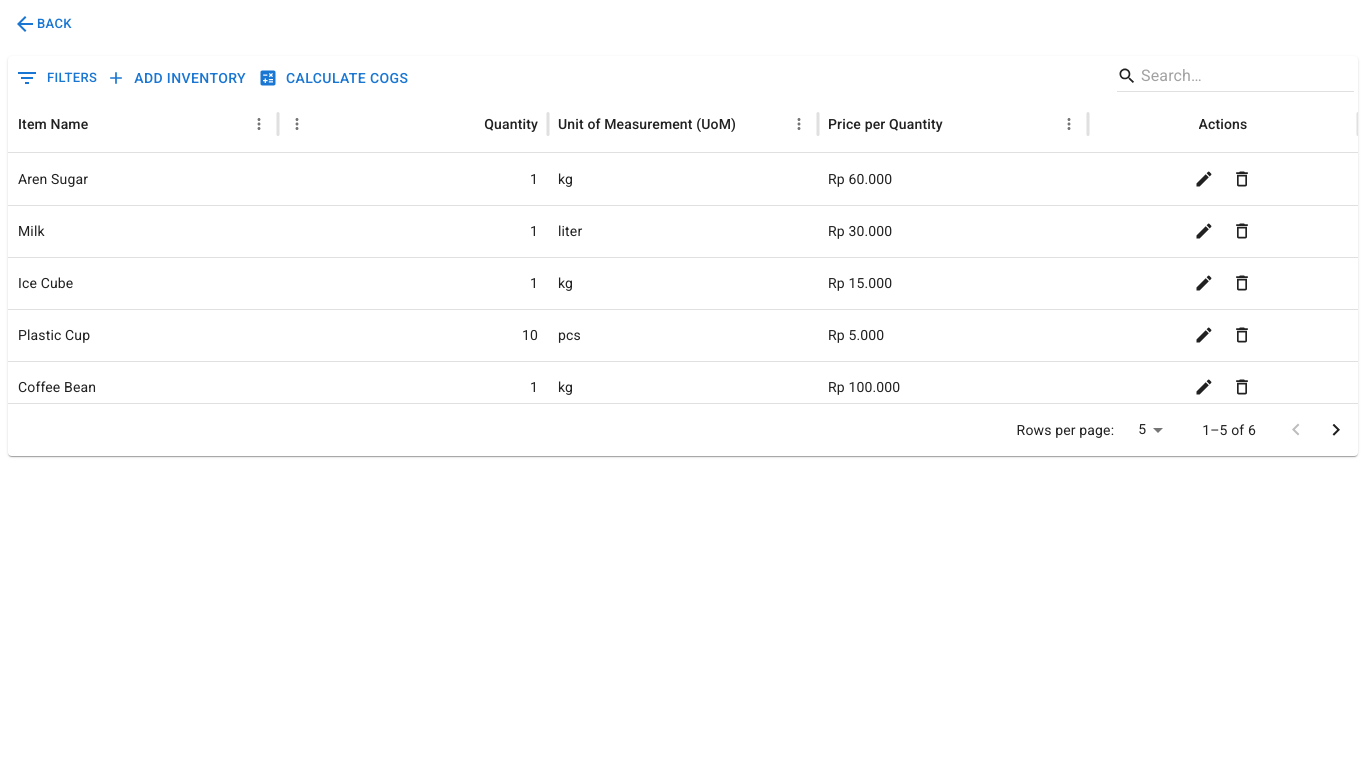
Test: inventory › add modal › should create inventory correctly
Click the button "Add Inventory".
click(178, 79)  # box x1=102 y1=60 x2=254 y2=97
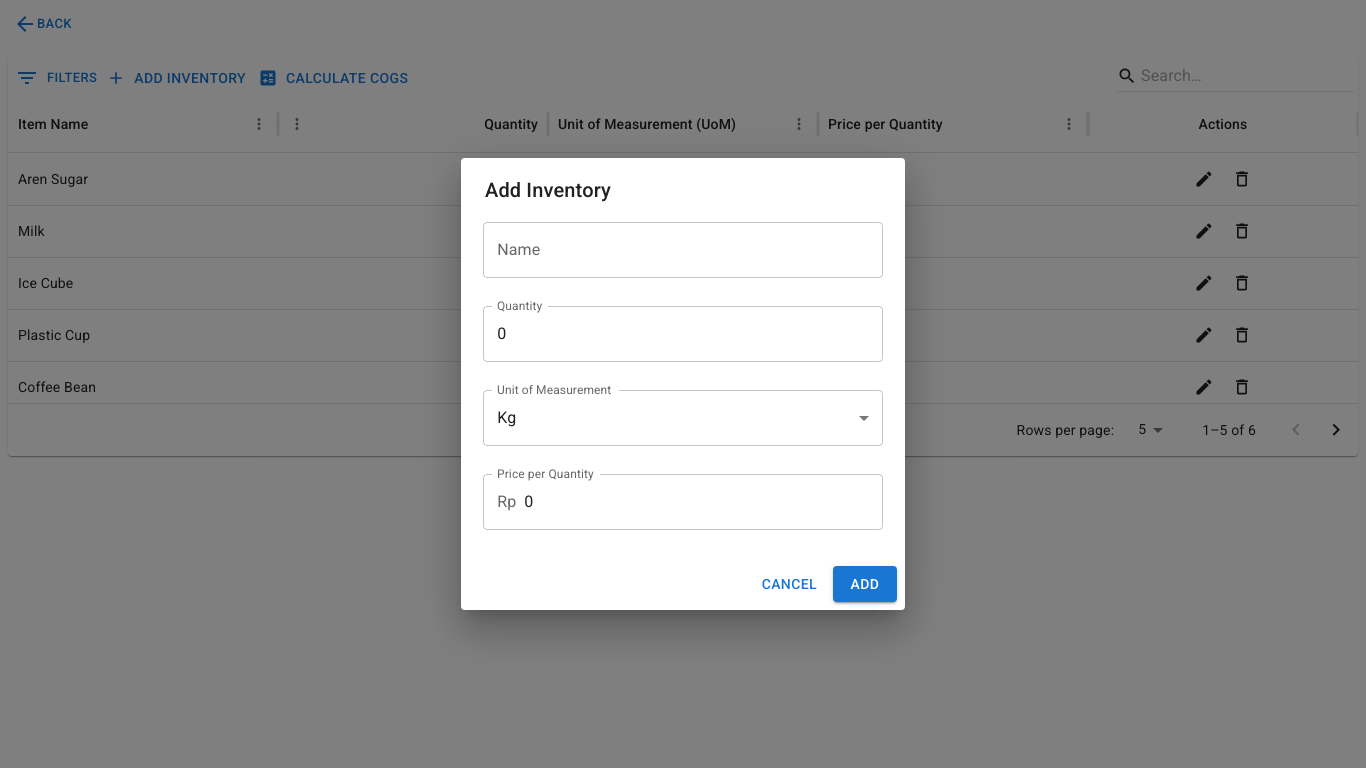
Type "Testing" into the field named "name".
click(683, 250); type("Testing")  # box x1=483 y1=222 x2=883 y2=278
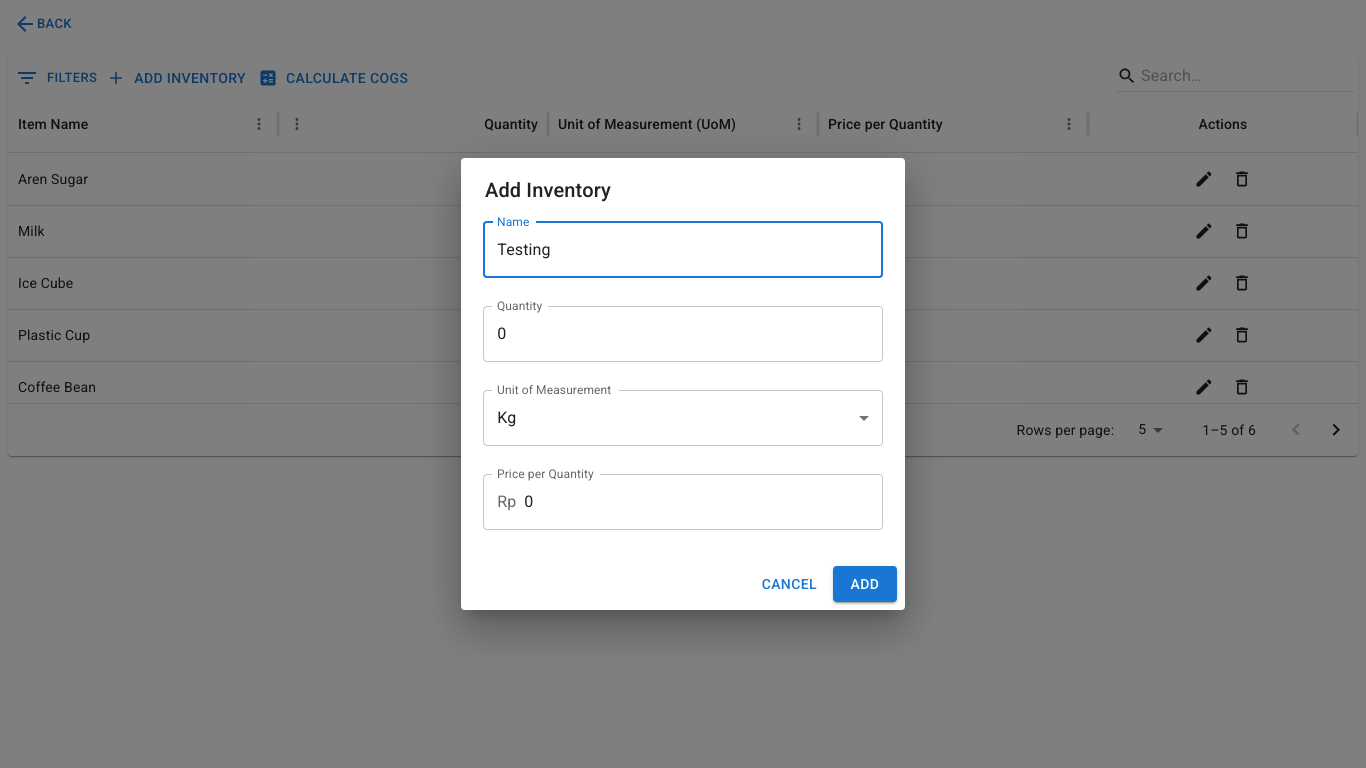
Type "10" into the number field named "qty".
click(683, 334); type("10")  # box x1=483 y1=306 x2=883 y2=362
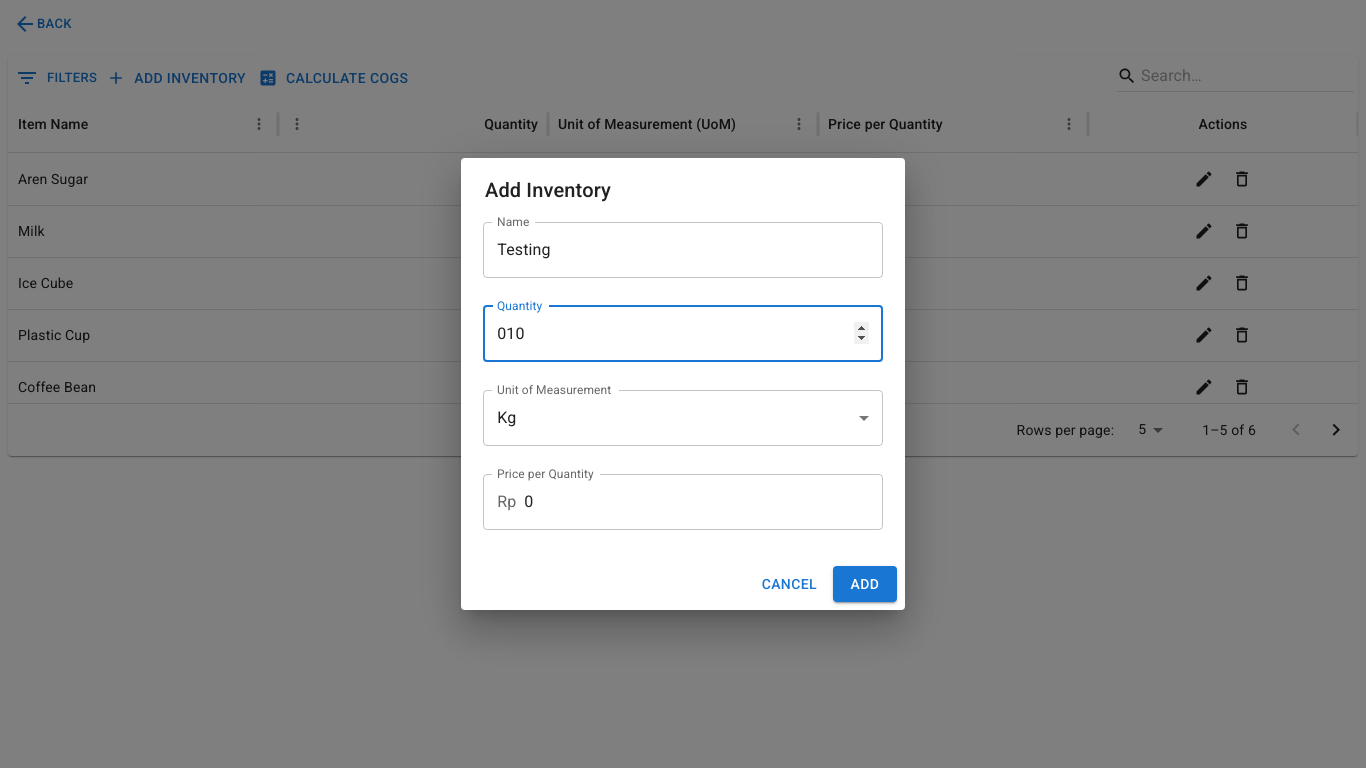
Type "10_000" into the number field named "priceQty".
click(703, 502); type("10_000")  # box x1=524 y1=474 x2=882 y2=530
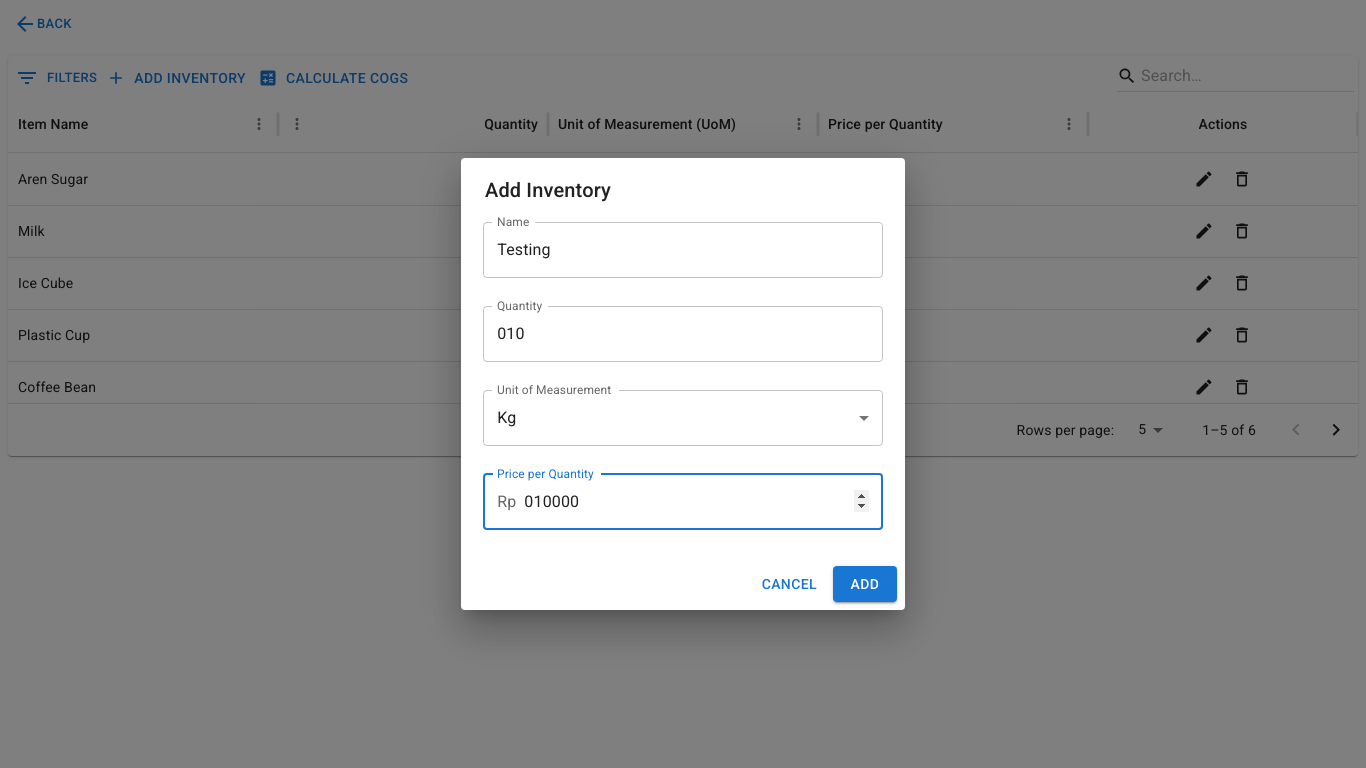
Click the button "Add".
click(865, 585)  # box x1=833 y1=566 x2=897 y2=603
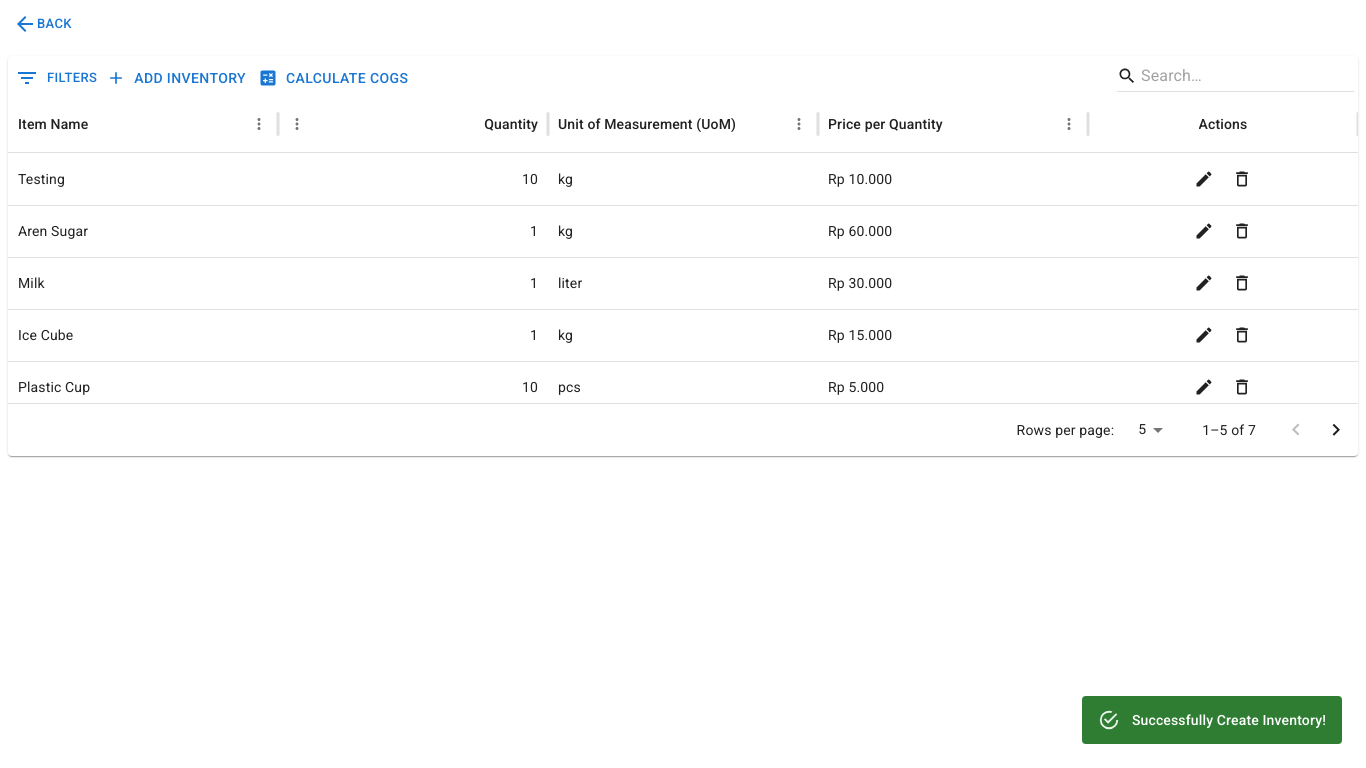
Result: the text "Successfully Create Inventory!" is shown at x1=1132 y1=712 x2=1326 y2=728
